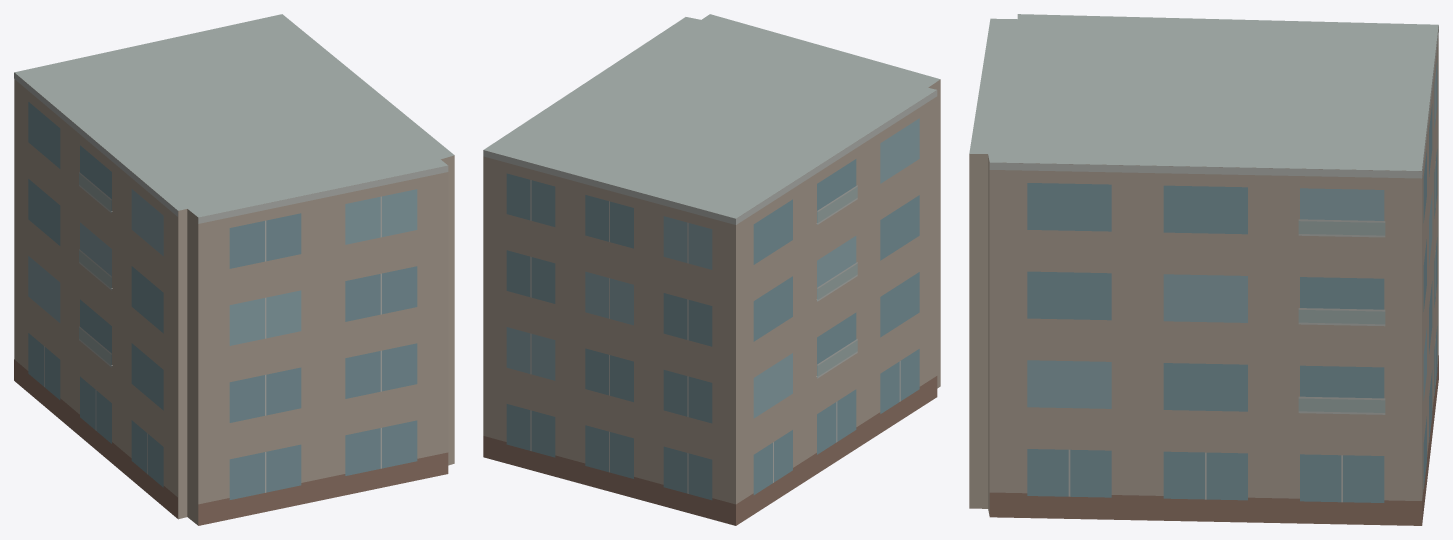
File: survey-upis-32881886.glb
3 renders of one model, left to right at view 1: azimuth 30°, elevation 25°; view 2: azimuth 150°, elevation 25°; view 3: azimuth 270°, elevation 25°, orthographic. The views are drawn at different scales.
Visible parts, largest first — view 1: survey-upis-32881886.tmp; view 2: survey-upis-32881886.tmp; view 3: survey-upis-32881886.tmp.
Part boxes in pixels (x1,y1,x2,y2): survey-upis-32881886.tmp: [14, 14, 454, 525]; survey-upis-32881886.tmp: [483, 14, 940, 525]; survey-upis-32881886.tmp: [969, 14, 1438, 525].
Size of the model in its own units: 11.12 by 11.7 by 14.04.
